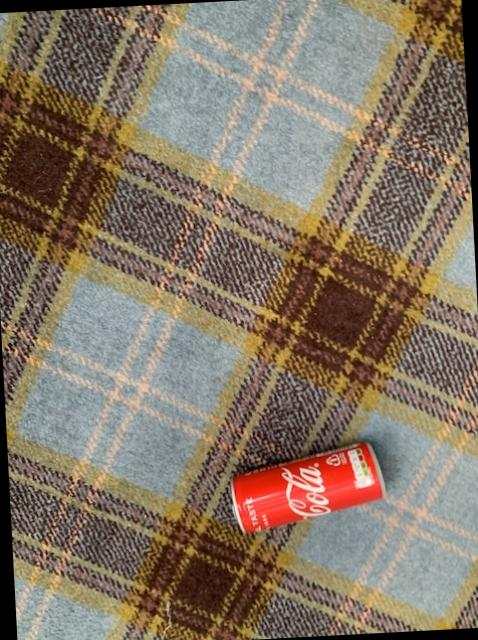metal: (230, 440, 383, 530)
